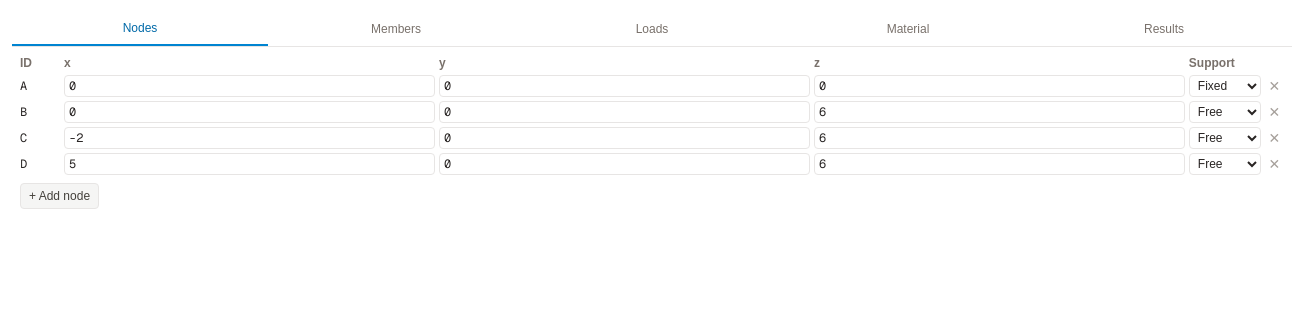
Test: Model3DEditor › rotate is disabled without a profile
Click the button "members".
click(396, 29)  # box left=268, top=12, right=524, bottom=46
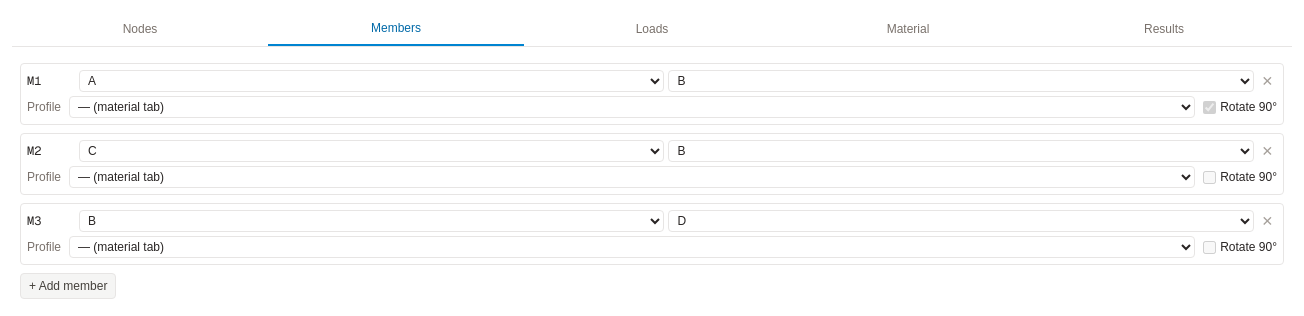
Check: the checkbox named "M1 rotated" is disabled, box left=1203, top=100, right=1216, bottom=114
